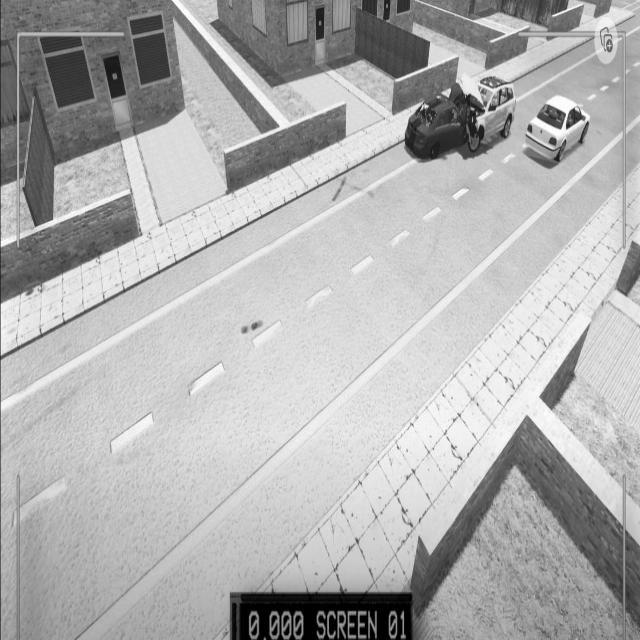accident: (406, 69, 518, 159)
vehicle: (525, 90, 592, 166)
